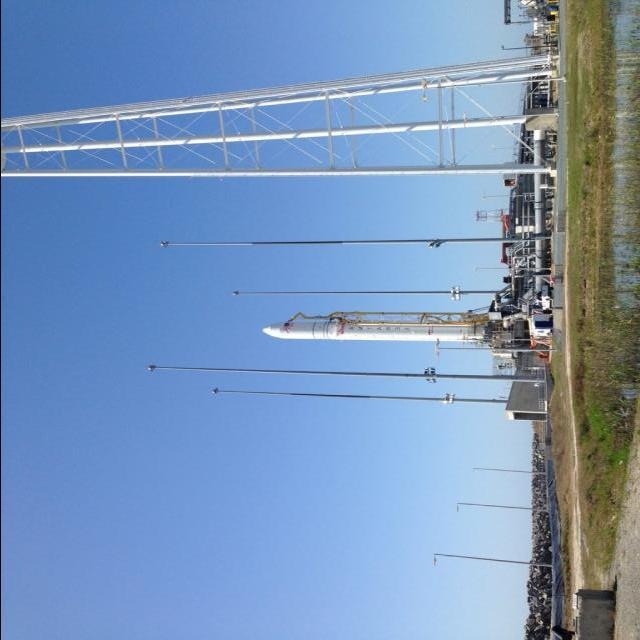missile: (261, 320, 471, 343)
